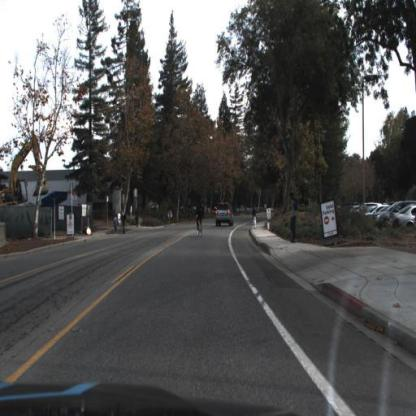biker: (195, 196, 206, 237), (167, 207, 175, 227), (167, 210, 175, 229)
car: (215, 203, 236, 228)
pedestrian: (287, 190, 299, 243), (122, 207, 129, 237), (120, 207, 127, 235), (114, 207, 120, 235), (113, 210, 119, 235), (134, 208, 141, 229), (253, 206, 258, 223), (254, 207, 258, 223)
truck: (1, 130, 51, 234)
